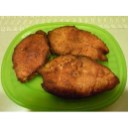seerfish: (38, 55, 120, 96), (47, 22, 111, 60), (9, 28, 50, 81)
